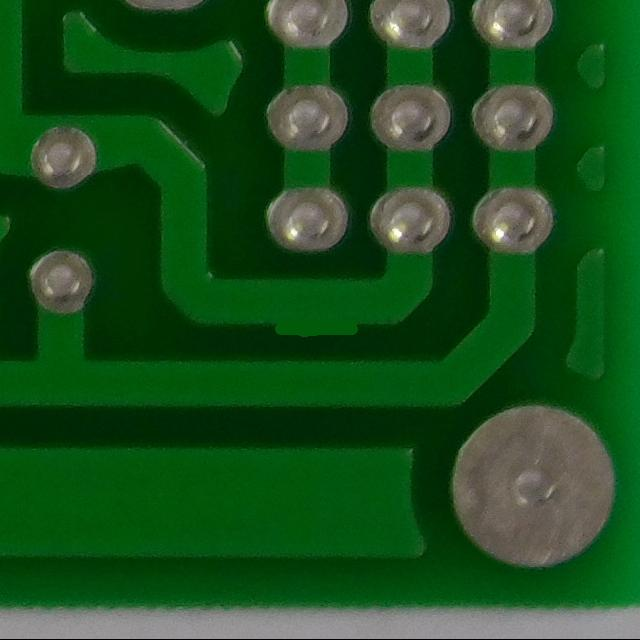spur: (266, 297, 375, 344)
